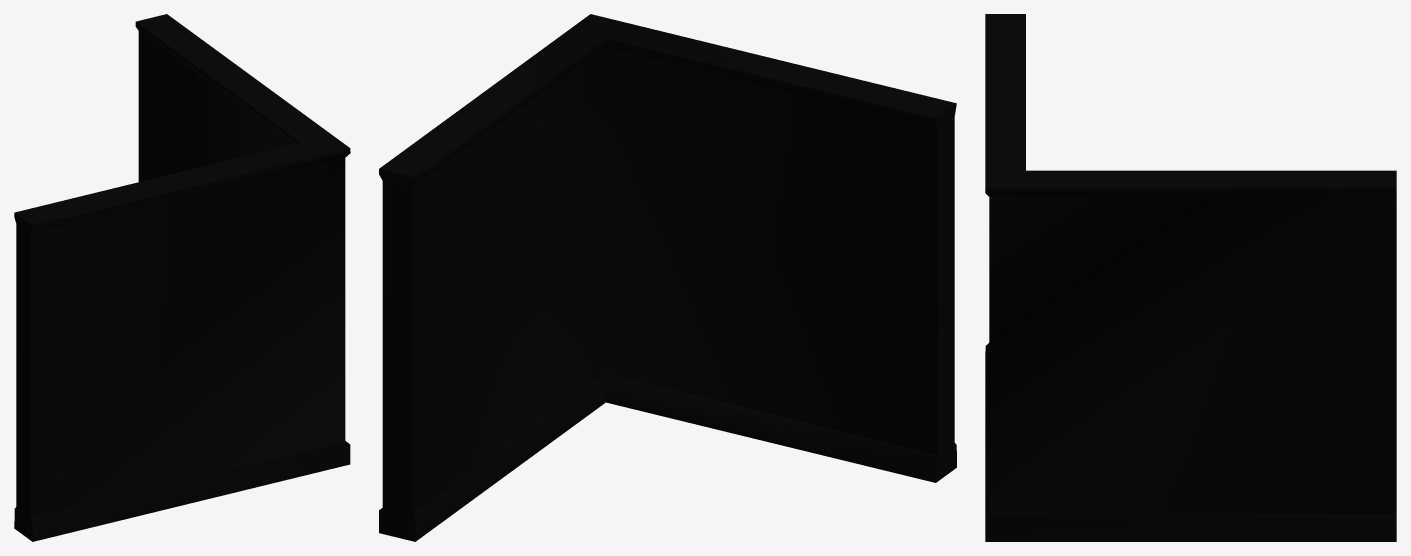
File: Neo_Wall_Corner_snaps001.fbx
The picture shows the model from 3 angles, left to right: view 1: azimuth 30°, elevation 25°; view 2: azimuth 150°, elevation 25°; view 3: azimuth 270°, elevation 25°; orthographic projection. The views are drawn at different scales.
Visible parts, largest first — view 1: Neo_Wall_Corner_snaps001; view 2: Neo_Wall_Corner_snaps001; view 3: Neo_Wall_Corner_snaps001.
Boxes of the visible parts, x1,y1,x2,y2 form: Neo_Wall_Corner_snaps001: (14,14,350,541); Neo_Wall_Corner_snaps001: (379,14,956,541); Neo_Wall_Corner_snaps001: (985,14,1396,541).
Size of the model in its own units: 3.16 by 3 by 3.16.
Materials: 1 (1 with a texture image).
